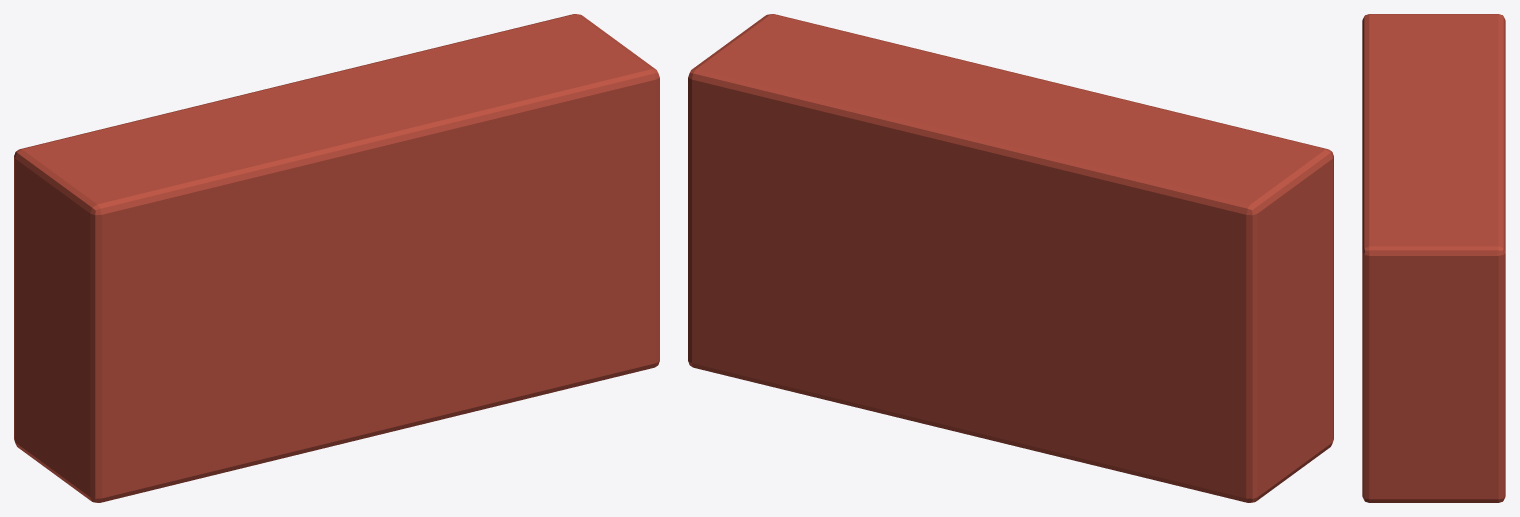
Rendered from PlankWood2.fbx.
The picture shows the model from 3 angles, left to right: view 1: azimuth 30°, elevation 25°; view 2: azimuth 150°, elevation 25°; view 3: azimuth 270°, elevation 25°; orthographic projection. The views are drawn at different scales.
Parts seen in each view (by area): view 1: Cube.003; view 2: Cube.003; view 3: Cube.003.
Part boxes in pixels (x1=…): Cube.003: x1=14, y1=14, x2=659, y2=502; Cube.003: x1=688, y1=14, x2=1333, y2=502; Cube.003: x1=1362, y1=14, x2=1505, y2=502.
Bounding box in the file's own units: 1.99 × 1 × 0.5072.
